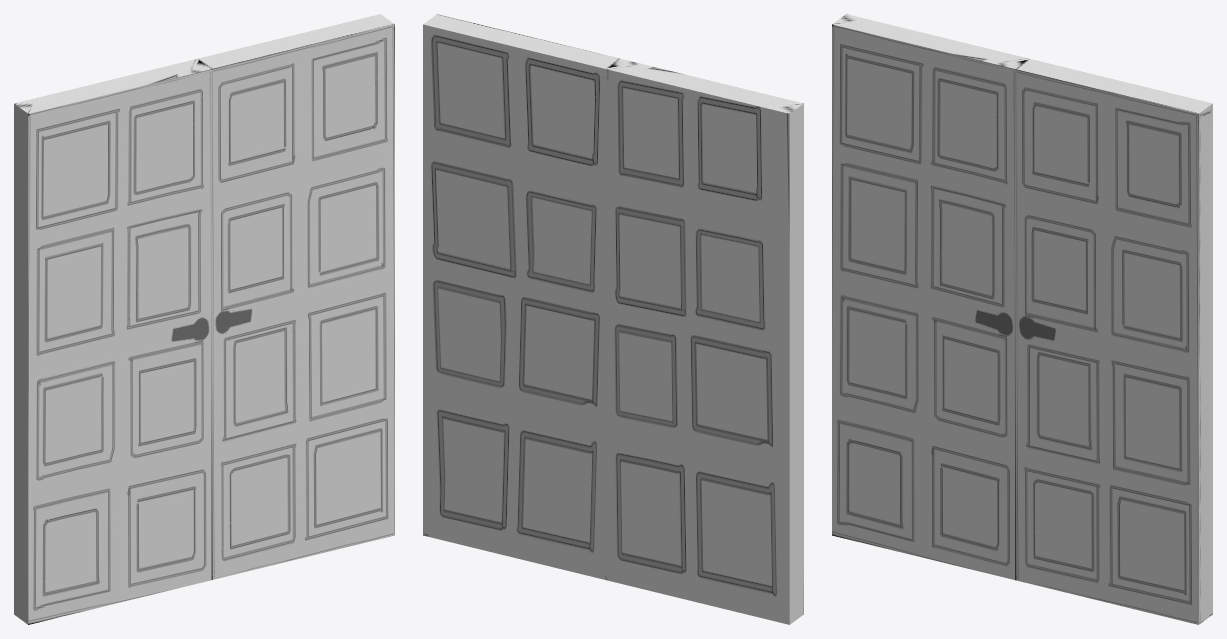
The model's file is Doors_Tutorial_2.fbx.
3 renders of one model, left to right at view 1: azimuth 30°, elevation 25°; view 2: azimuth 150°, elevation 25°; view 3: azimuth 330°, elevation 25°, orthographic.
Visible parts, largest first — view 1: polySurface2, polySurface1; view 2: polySurface2, polySurface1; view 3: polySurface1, polySurface2.
Boxes of the visible parts, bbox=[...] form: polySurface2: bbox=[14, 59, 211, 624]; polySurface1: bbox=[197, 14, 394, 579]; polySurface2: bbox=[606, 59, 803, 624]; polySurface1: bbox=[423, 14, 620, 579]; polySurface1: bbox=[1015, 59, 1212, 624]; polySurface2: bbox=[832, 14, 1029, 579].
Size of the model in its own units: 61.21 by 81.52 by 4.13.
Materials: 2 (2 with a texture image).
